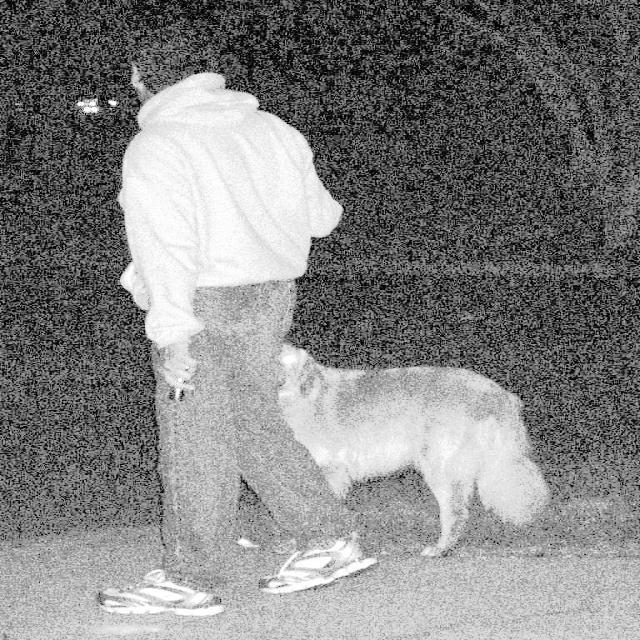Dog: (317, 330, 551, 564)
Person: (84, 33, 324, 619)
